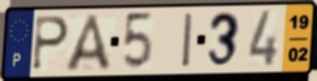3: (205, 10, 244, 71)
4: (247, 9, 281, 69)
5: (121, 9, 158, 73)
A: (63, 12, 115, 74)
I: (181, 11, 195, 70)
P: (30, 15, 71, 73)
